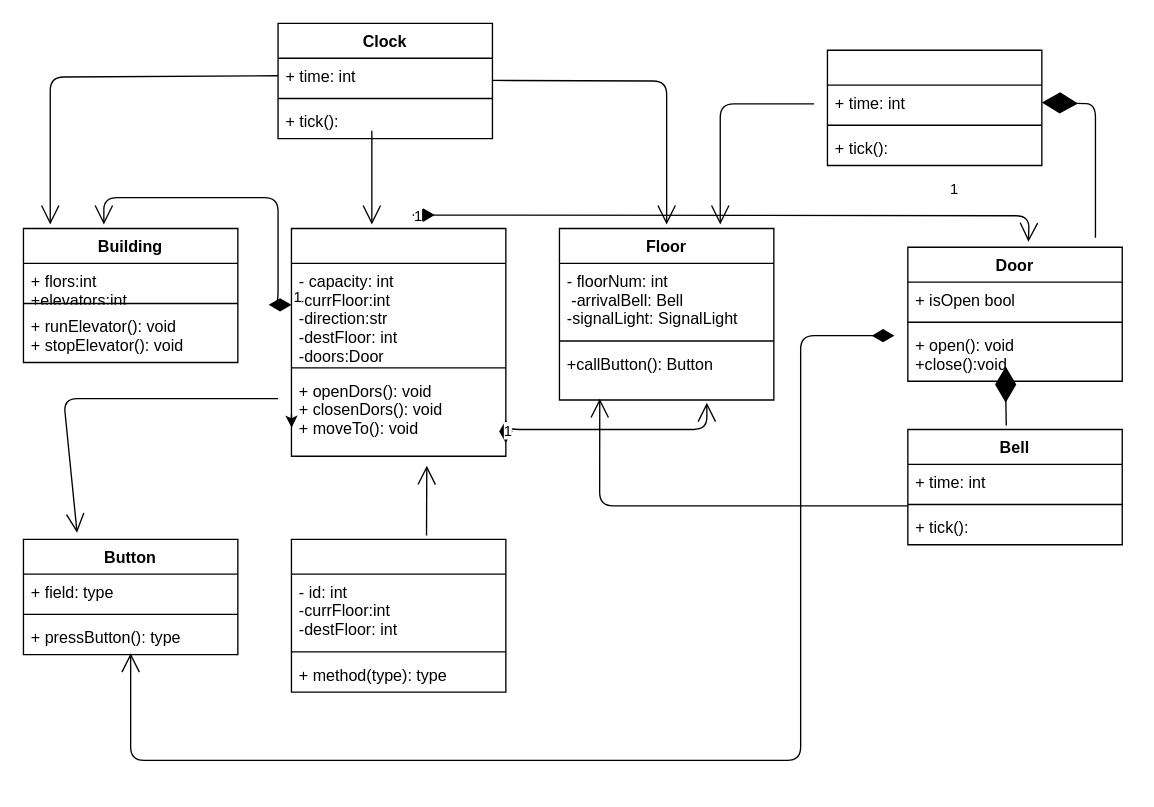
The diagram is 1154 pixels wide and 807 high, and some of its shapes have lost their labels. The shapes that lost their labels are listed below. From the top down, each one's box as (x1, y1, x2, y2) in pixels, then its label:
(826, 49, 1042, 165): SignalLight
(290, 227, 506, 456): Elevator
(290, 538, 506, 692): Passenger
